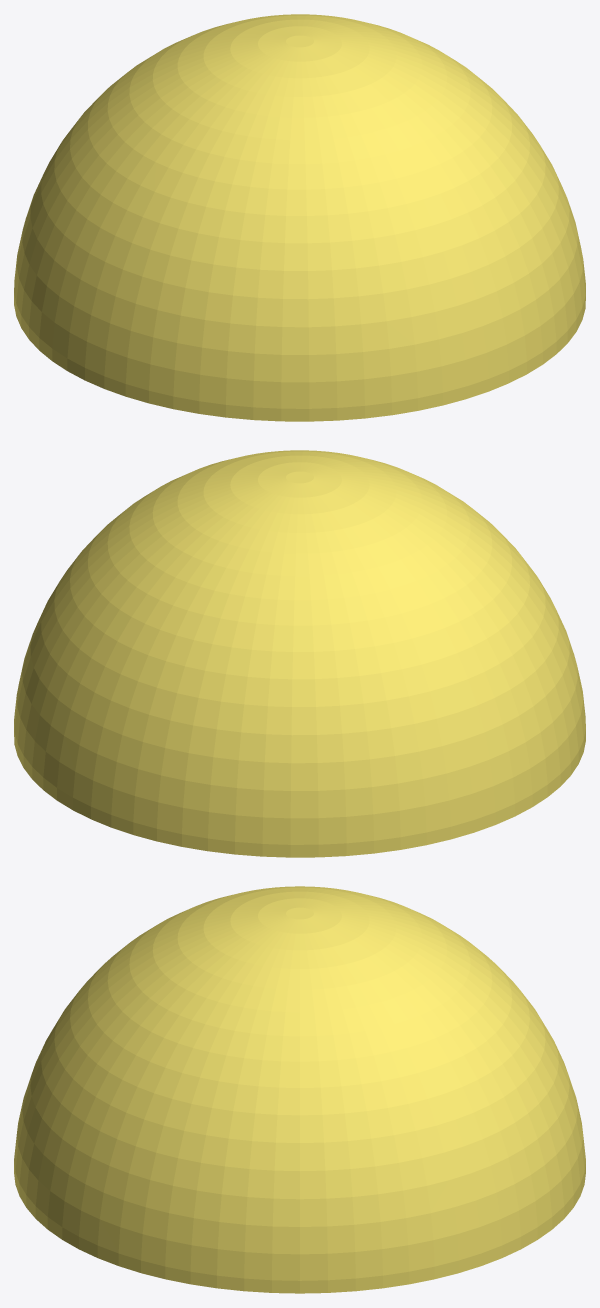
File: dome.glb
The picture shows the model from 3 angles, top to bottom: view 1: azimuth 30°, elevation 25°; view 2: azimuth 150°, elevation 25°; view 3: azimuth 270°, elevation 25°; orthographic projection.
Bounding box in the file's own units: 25.97 × 12.98 × 25.97.
